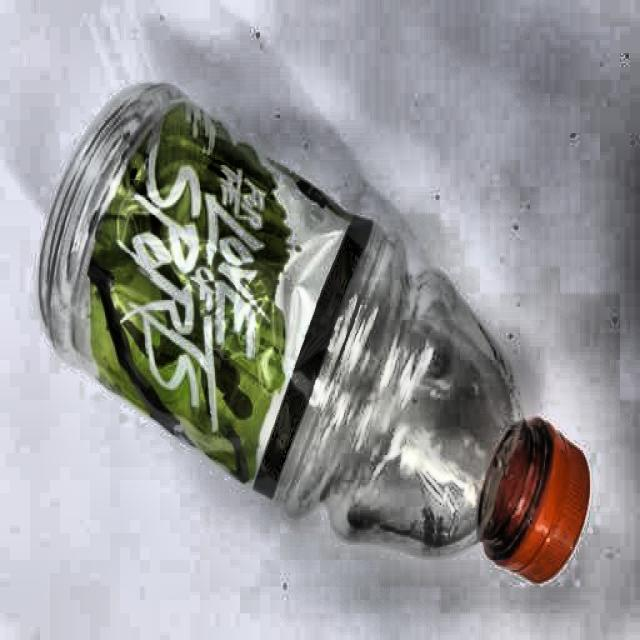plastic: (35, 81, 592, 586)
